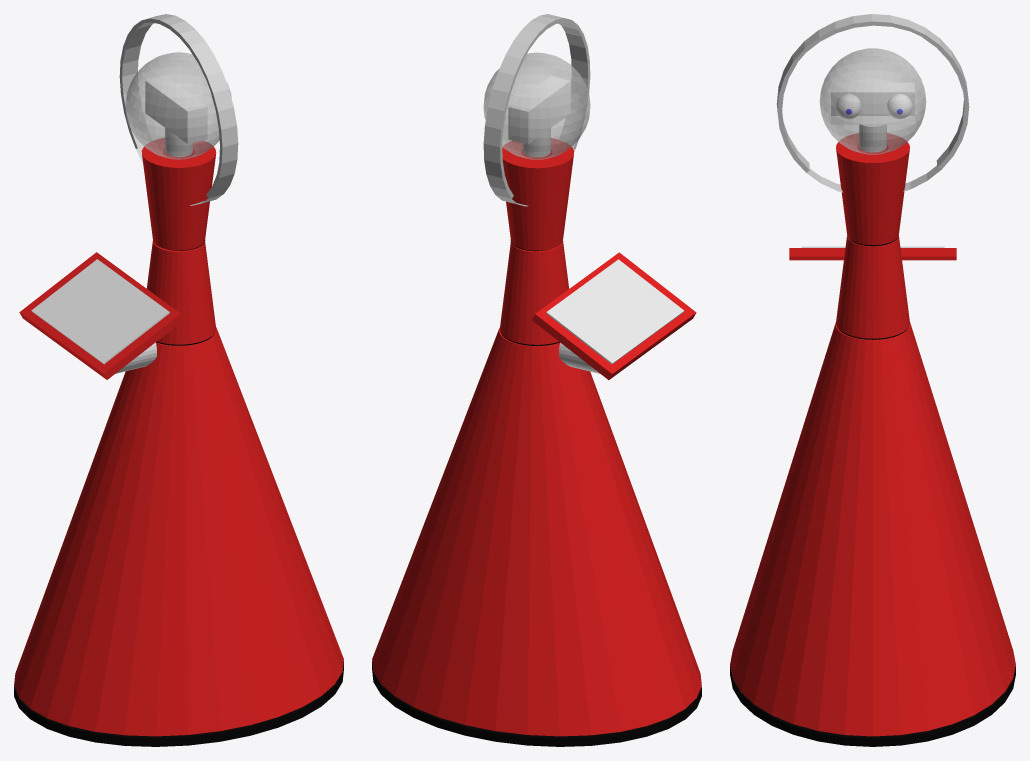
File: scitos.dae
3 views of the same model, side by side, from view 1: azimuth 30°, elevation 25°; view 2: azimuth 150°, elevation 25°; view 3: azimuth 270°, elevation 25° (orthographic).
Parts seen in each view (by area): view 1: body, head, display, neck_upper, head_mount, neck_lower, base, screen, eye_mount_high; view 2: body, head, display, head_mount, neck_upper, neck_lower, base, screen, eye_mount_high; view 3: body, head, neck_upper, neck_lower, head_mount, base, eye_mount_high, screen, eye_mount_low, eye_right, eye_left.
Part boxes in pixels (x1=…): body: x1=14, y1=327, x2=343, y2=736; head: x1=125, y1=52, x2=231, y2=159; display: x1=31, y1=259, x2=169, y2=364; neck_upper: x1=141, y1=138, x2=216, y2=250; head_mount: x1=119, y1=14, x2=238, y2=205; neck_lower: x1=146, y1=241, x2=216, y2=344; base: x1=14, y1=661, x2=343, y2=746; screen: x1=19, y1=252, x2=183, y2=379; eye_mount_high: x1=145, y1=76, x2=207, y2=143; body: x1=372, y1=327, x2=701, y2=736; head: x1=483, y1=52, x2=590, y2=159; display: x1=546, y1=259, x2=684, y2=364; head_mount: x1=483, y1=14, x2=590, y2=206; neck_upper: x1=502, y1=138, x2=574, y2=250; neck_lower: x1=500, y1=241, x2=569, y2=344; base: x1=372, y1=661, x2=701, y2=746; screen: x1=532, y1=252, x2=696, y2=379; eye_mount_high: x1=508, y1=76, x2=570, y2=144; body: x1=730, y1=322, x2=1015, y2=736; head: x1=819, y1=48, x2=926, y2=154; neck_upper: x1=836, y1=133, x2=909, y2=245; neck_lower: x1=836, y1=235, x2=909, y2=338; head_mount: x1=776, y1=14, x2=969, y2=192; base: x1=730, y1=666, x2=1015, y2=746; eye_mount_high: x1=831, y1=82, x2=914, y2=124; screen: x1=789, y1=248, x2=956, y2=260; eye_mount_low: x1=859, y1=124, x2=886, y2=152; eye_right: x1=887, y1=93, x2=912, y2=119; eye_left: x1=836, y1=93, x2=861, y2=119.
Bounding box in the file's own units: 0.7365 × 0.617 × 1.56.
